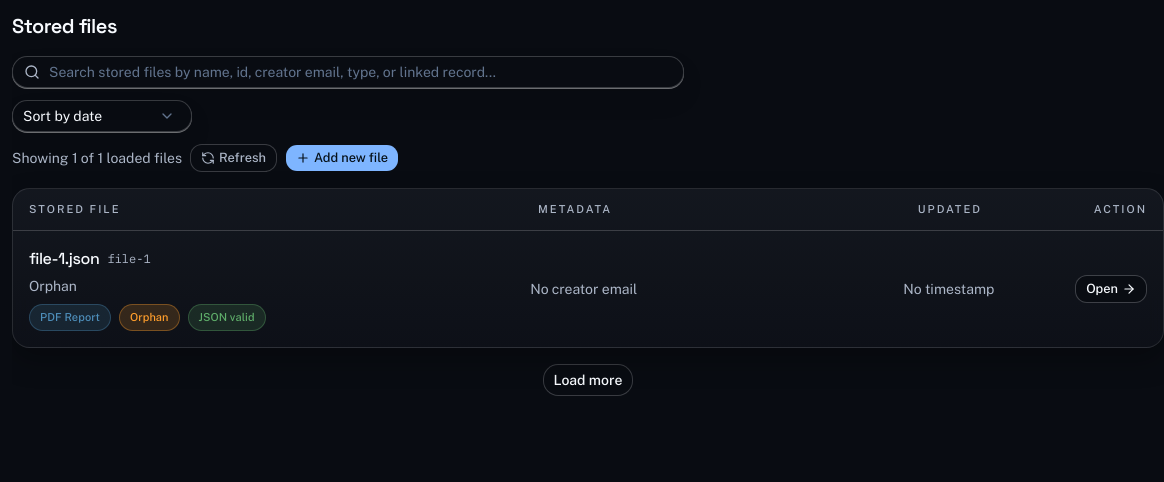
FileStorageBrowser › loads bounded pages and exposes the new-file flow
expect the heading "file-1.json" is shown: met, box [29,247,99,272]
Click the button "Load more" at (588, 380), box [543,364,634,396]
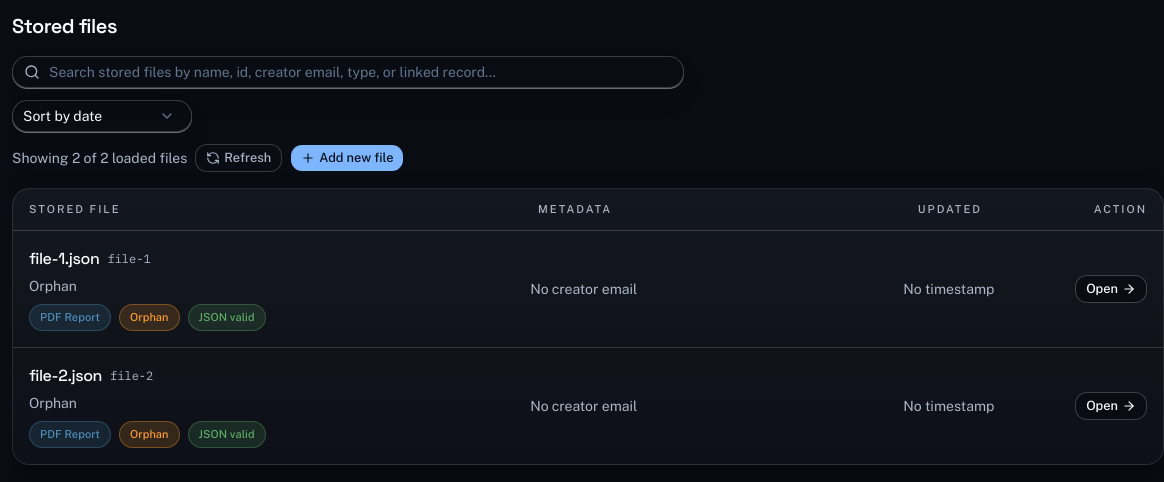
expect the heading "file-2.json" is shown: met, box [29,364,102,389]
expect the button "Load more" is gone: met
